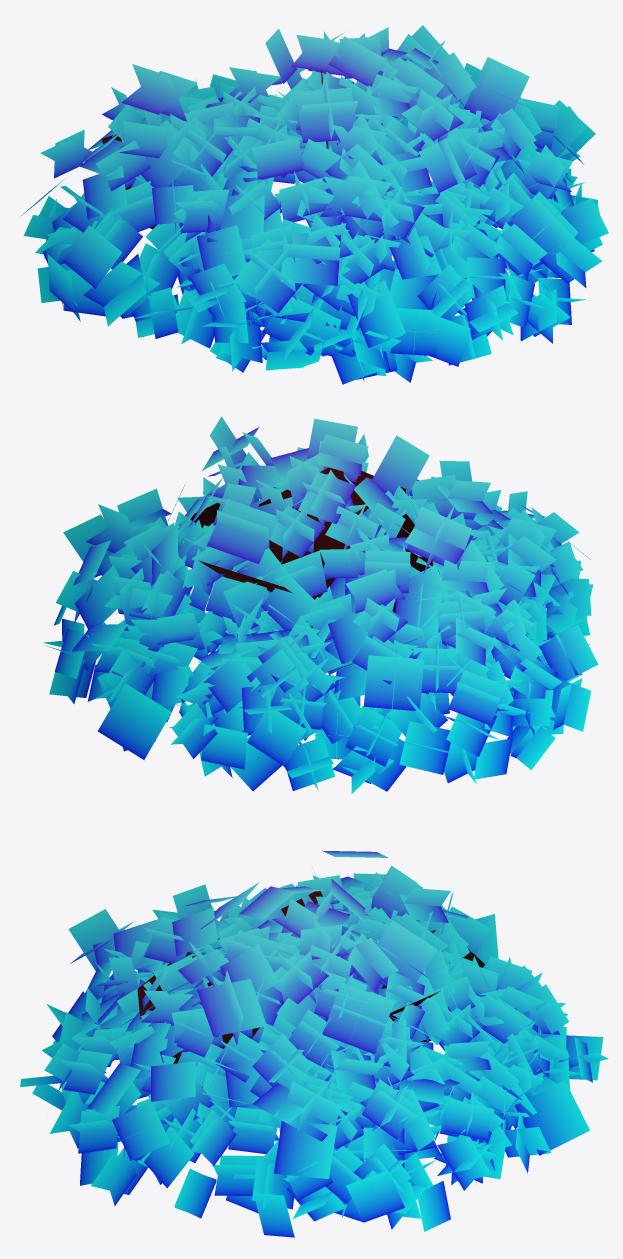
Rendered from SM_Env_Bush_02.gltf.
3 views of the same model, one above another, from view 1: azimuth 30°, elevation 25°; view 2: azimuth 150°, elevation 25°; view 3: azimuth 270°, elevation 25° (orthographic).
Visible parts, largest first — view 1: SM_Env_Bush_02_Leaves_LOD0; view 2: SM_Env_Bush_02_Leaves_LOD0, SM_Env_Bush_02_Branches_LOD0; view 3: SM_Env_Bush_02_Leaves_LOD0, SM_Env_Bush_02_Branches_LOD0.
Part boxes in pixels (bbox=[...]): SM_Env_Bush_02_Leaves_LOD0: bbox=[21, 25, 608, 384]; SM_Env_Bush_02_Leaves_LOD0: bbox=[43, 416, 598, 793]; SM_Env_Bush_02_Branches_LOD0: bbox=[190, 467, 432, 672]; SM_Env_Bush_02_Leaves_LOD0: bbox=[20, 850, 608, 1237]; SM_Env_Bush_02_Branches_LOD0: bbox=[137, 891, 484, 1087].
Bounding box in the file's own units: 4.95 × 2.33 × 4.7.
